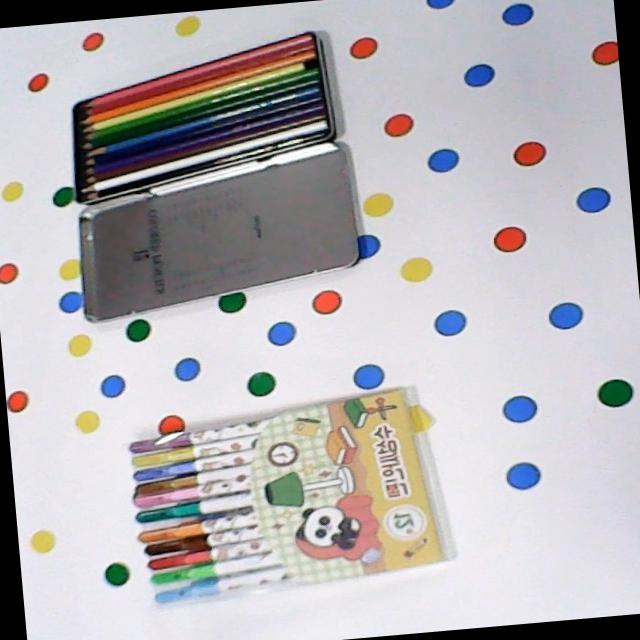color: (61, 19, 344, 207)
signpen: (116, 377, 464, 619)
